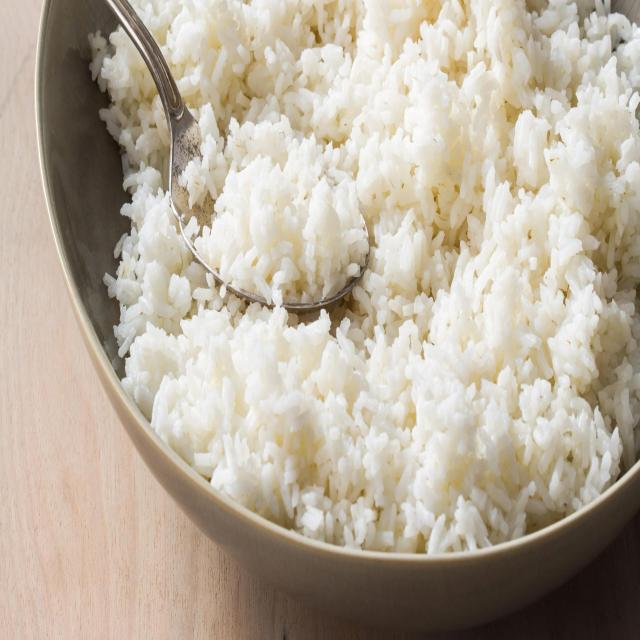rice: (95, 1, 640, 552), (177, 104, 371, 308)
